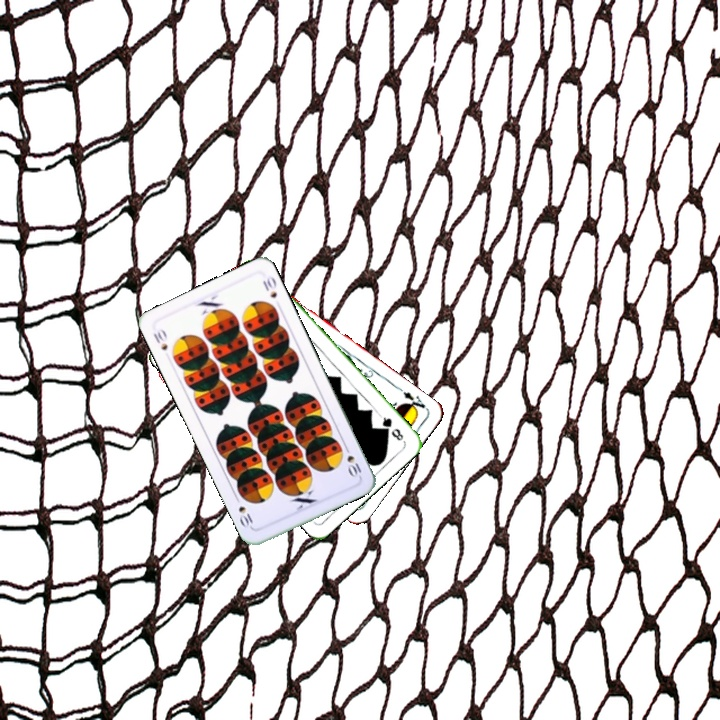EA: (394, 383, 429, 416)
G8: (376, 411, 406, 443)
S10: (340, 441, 364, 480), (149, 324, 170, 353)
